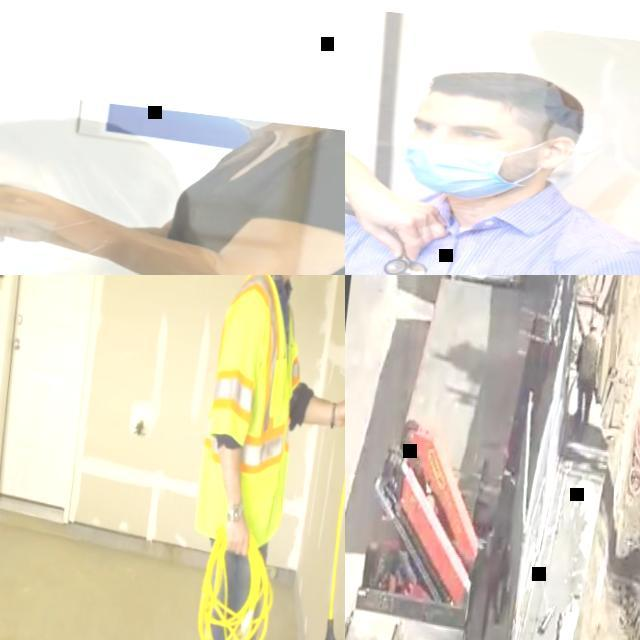helmet: (588, 317, 600, 328)
vest: (191, 275, 312, 549)
